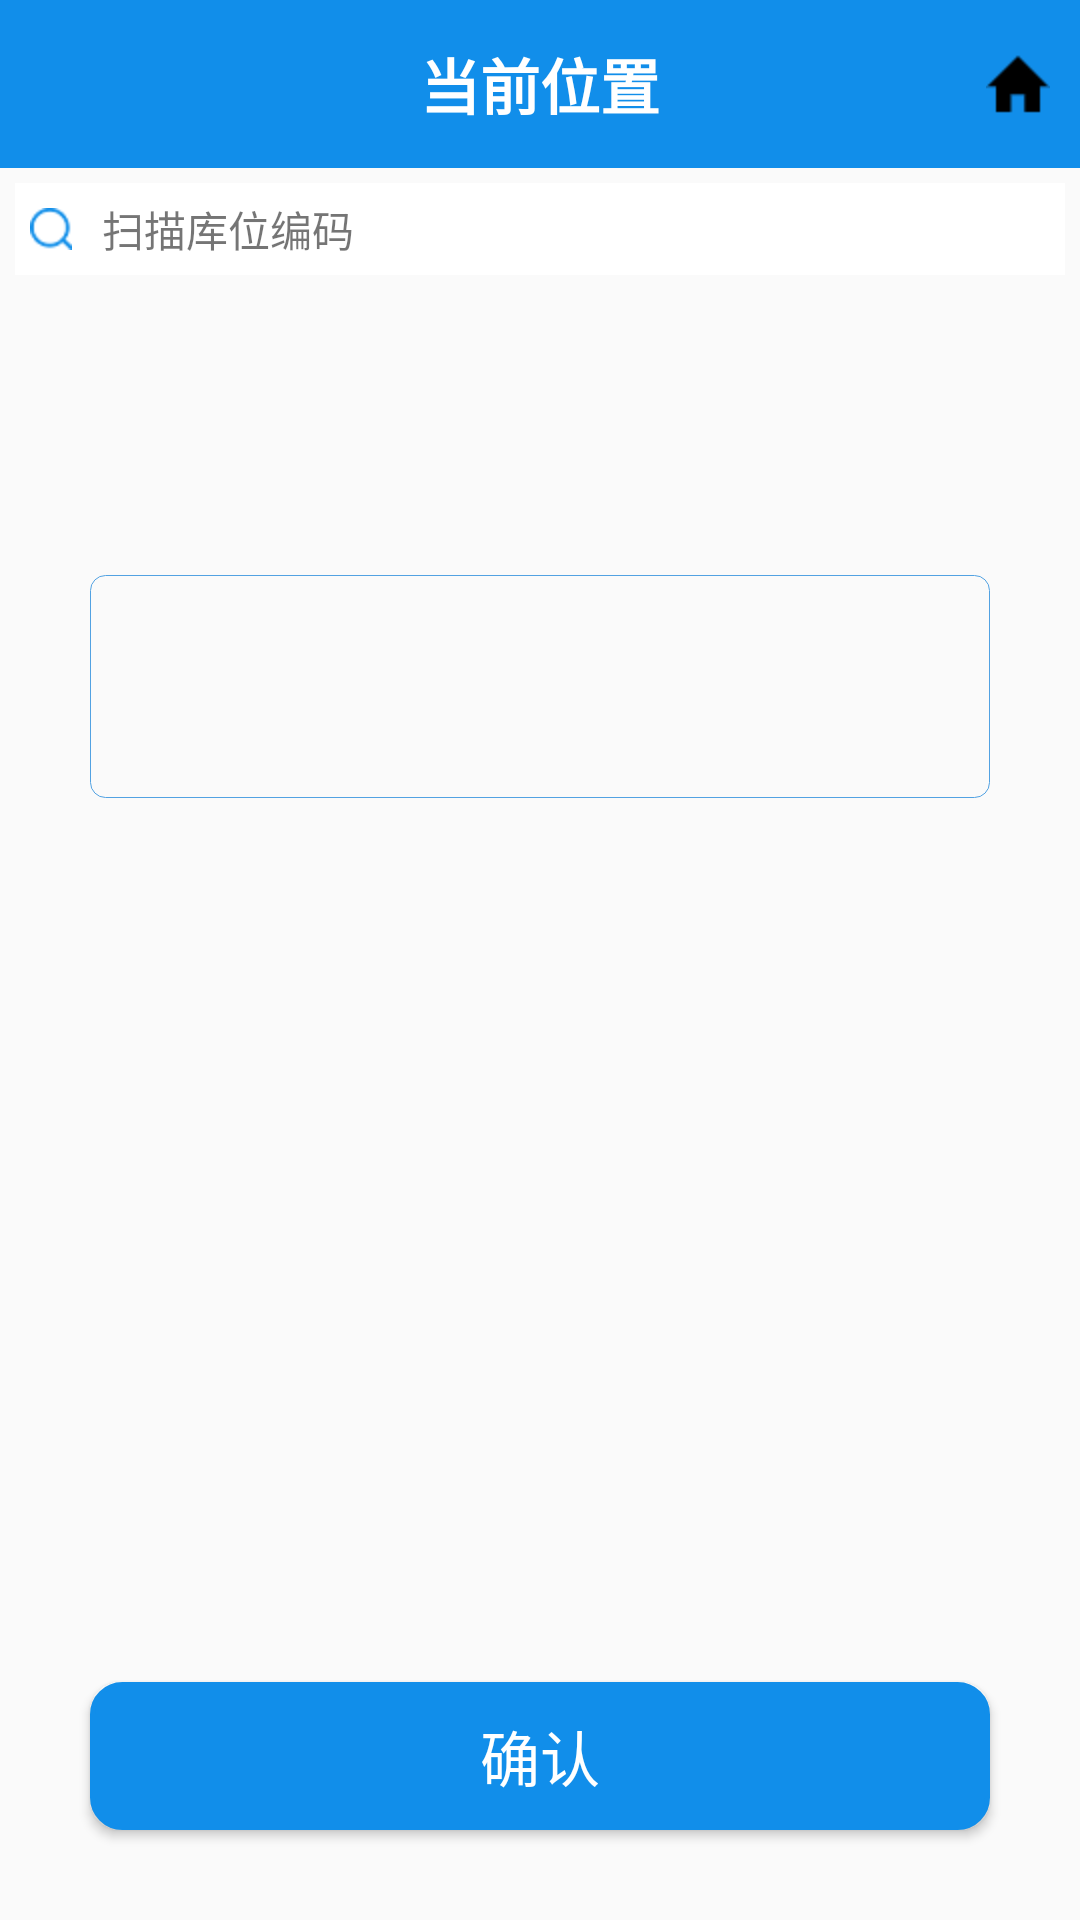

Where to tap for icons on this 1080 × 1920 app screen, as point (x, y):
home: point (1018, 84)
search: point (51, 229)
